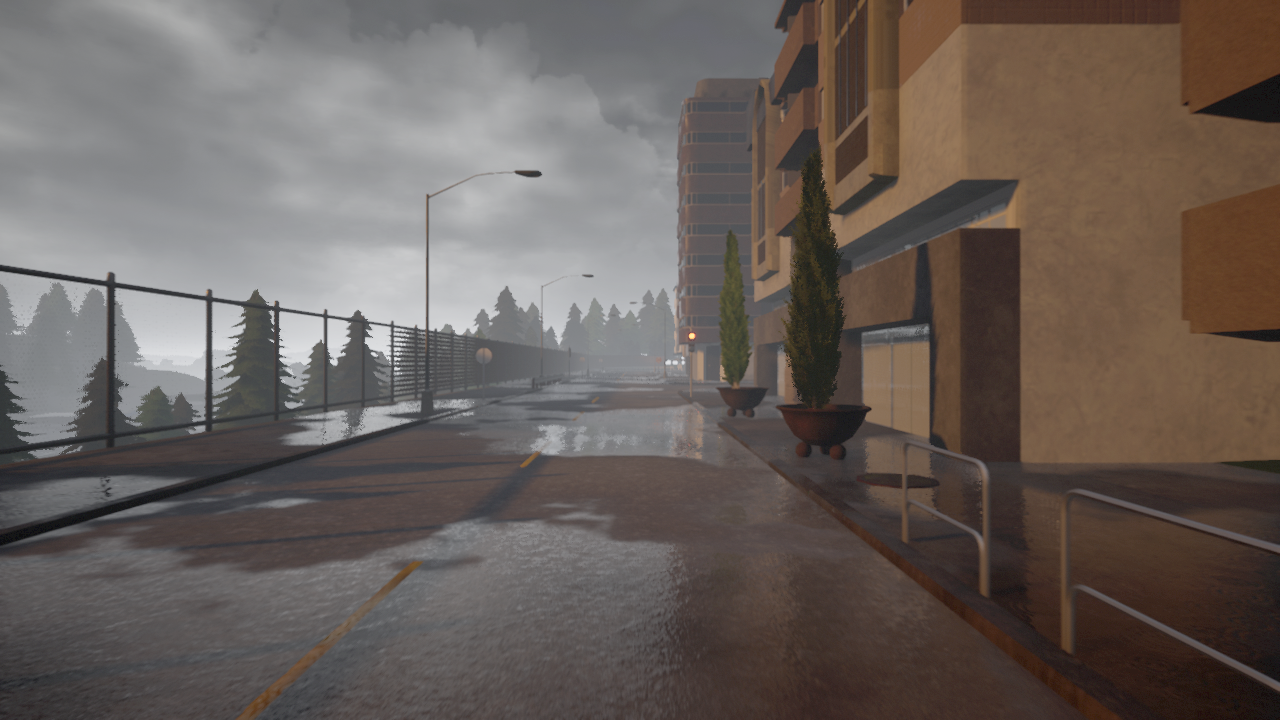red: (687, 331, 695, 353)
